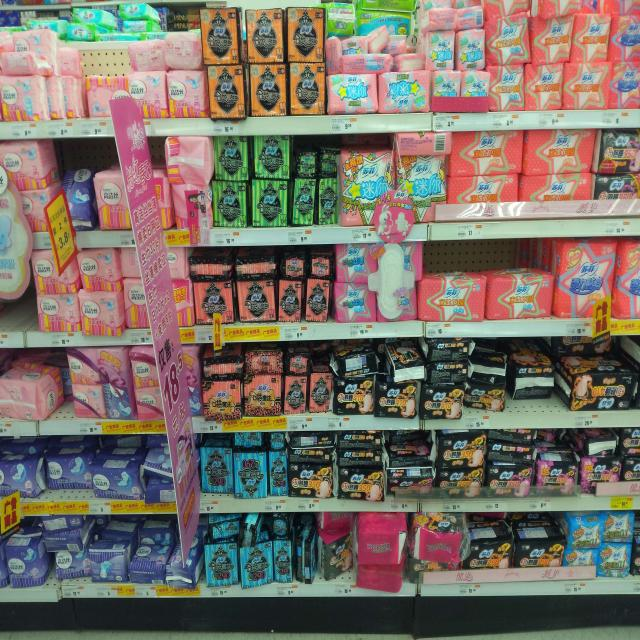empty: (1, 260, 42, 341)
